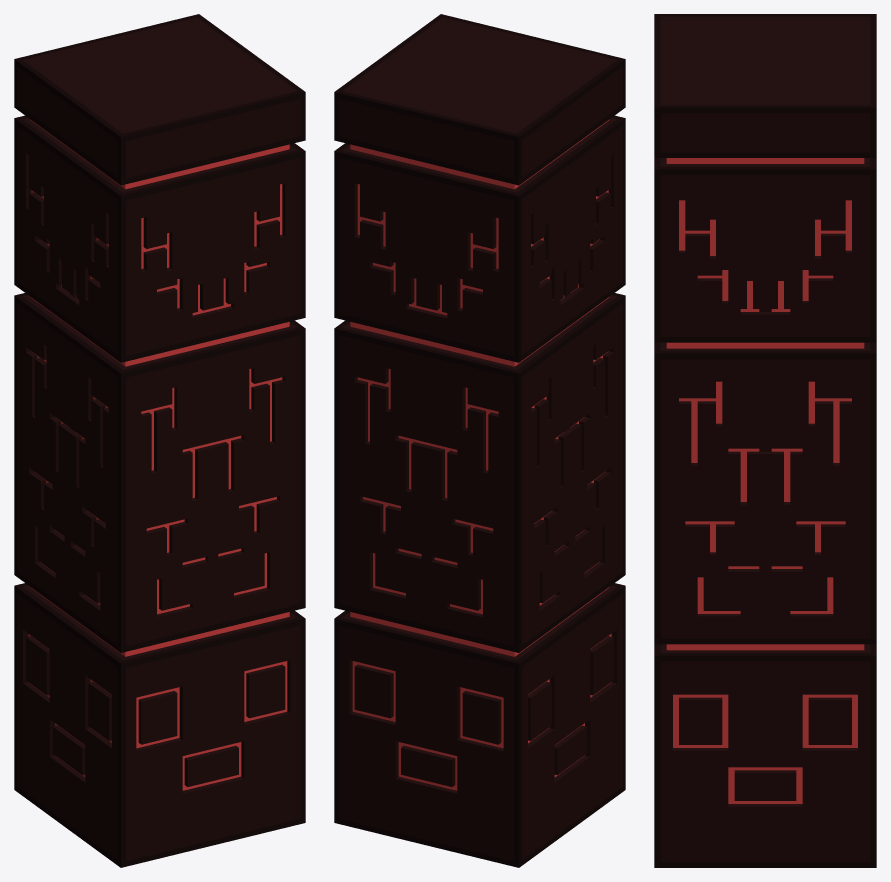
The model's file is Red Trial Altar.fbx.
3 renders of one model, left to right at view 1: azimuth 30°, elevation 25°; view 2: azimuth 150°, elevation 25°; view 3: azimuth 270°, elevation 25°, orthographic. The views are drawn at different scales.
Visible parts, largest first — view 1: Red Trial Altar; view 2: Red Trial Altar; view 3: Red Trial Altar.
Part boxes in pixels (x1,y1,x2,y2): Red Trial Altar: (14, 14, 305, 867); Red Trial Altar: (334, 14, 625, 867); Red Trial Altar: (654, 14, 876, 867).
Size of the model in its own units: 0.72 by 0.72 by 2.72.
Materials: 1 (1 with a texture image).
